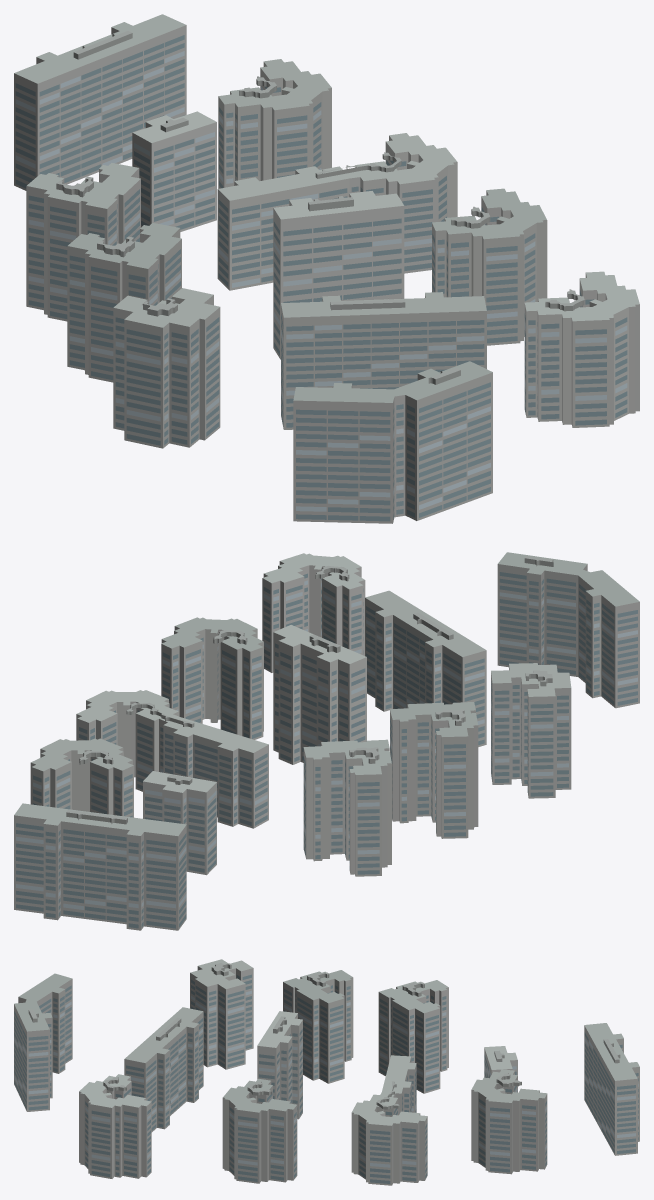
The model's file is apt-a13410005.glb.
3 renders of one model, top to bottom at view 1: azimuth 30°, elevation 25°; view 2: azimuth 150°, elevation 25°; view 3: azimuth 270°, elevation 25°, orthographic. The views are drawn at different scales.
Visible parts, largest first — view 1: apt-a13410005; view 2: apt-a13410005; view 3: apt-a13410005.
Part boxes in pixels (x1,y1,x2,y2): apt-a13410005: (14,14,639,523); apt-a13410005: (14,552,639,930); apt-a13410005: (14,959,639,1185).
Size of the model in its own units: 160 by 50 by 289.
